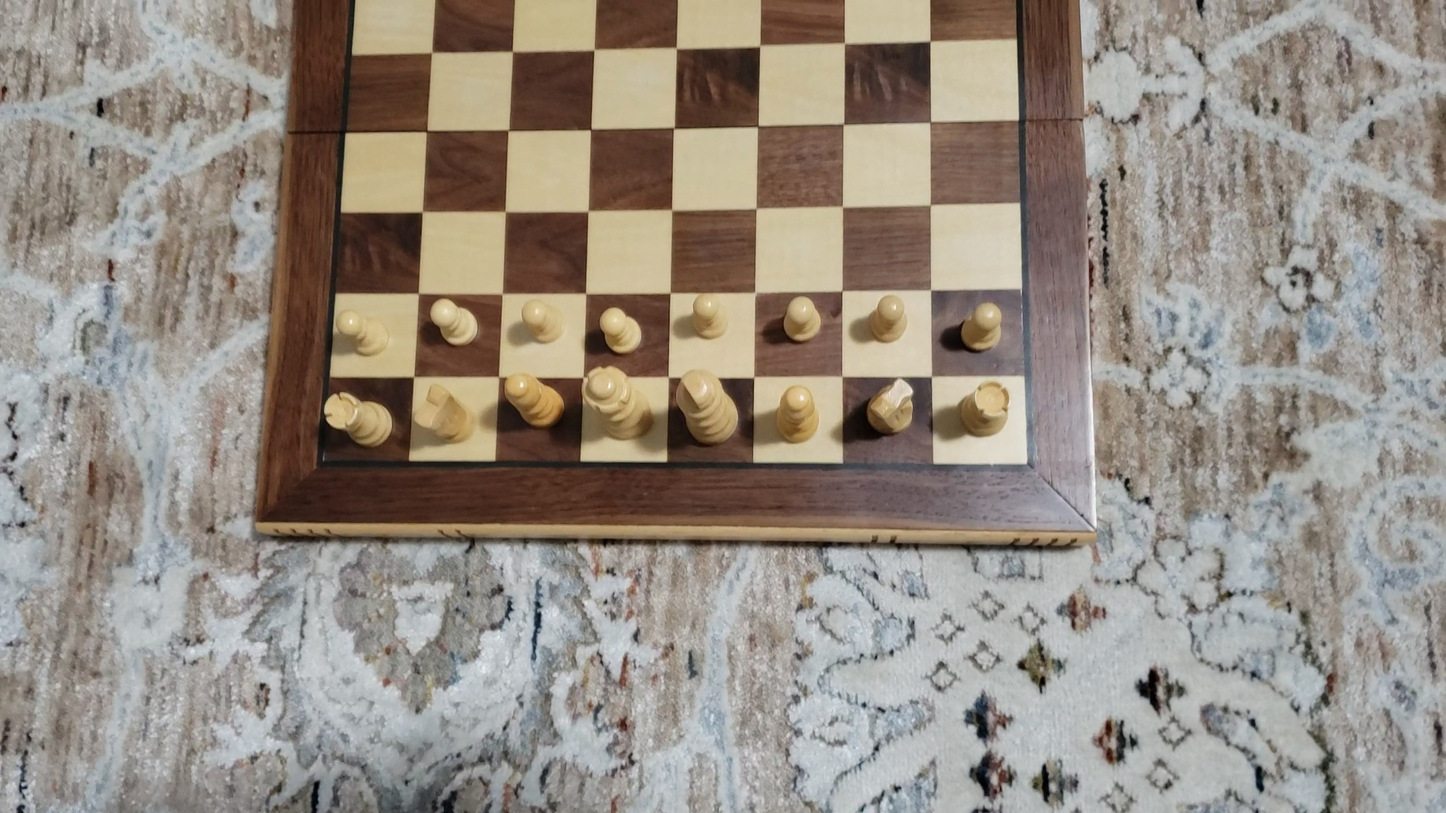white-bishop: (501, 371, 565, 430), (774, 382, 821, 447)
white-king: (674, 367, 739, 449)
white-knight: (413, 382, 476, 447), (860, 375, 917, 439)
white-pawn: (955, 298, 1007, 356), (336, 307, 391, 359), (427, 295, 480, 348), (864, 290, 912, 346), (597, 302, 645, 357), (517, 296, 568, 346), (777, 292, 824, 346), (687, 289, 732, 340)
white-rook: (323, 389, 393, 449), (957, 379, 1013, 439)
